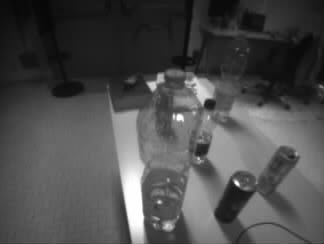Bottle: (138, 72, 195, 231), (212, 46, 241, 117), (192, 101, 216, 160)
Tin can: (217, 172, 251, 223), (259, 150, 298, 192)
